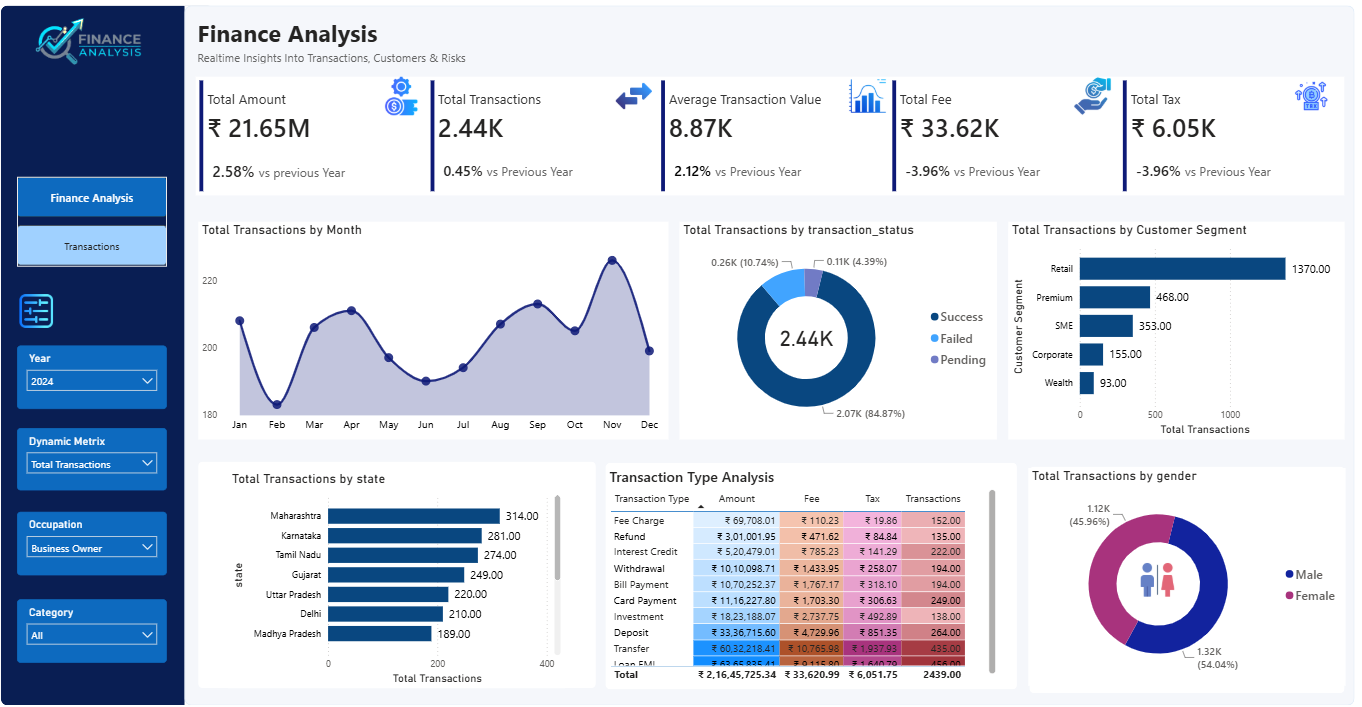

What the dashboard file says about the page in this screenshot:
{"tool":"powerbi","page":{"name":"Finance Analysis","canvas":[1800,950],"ordinal":0},"visuals":[{"type":"shape","box":[11.4,16.4,279.6,915.7],"z":0},{"type":"shape","box":[251.8,16.4,1530.5,915.7],"z":1000},{"type":"image","box":[11.4,16.4,228.9,93.2],"z":2000},{"type":"cardVisual","fields":{"Data":["finance_transactions.Dashboard Title"]},"box":[251.8,16.4,389.2,93.2],"z":3000},{"type":"cardVisual","fields":{"Data":["finance_transactions.Total Amount","finance_transactions.Total transactions","finance_transactions.Average Transaction Value","finance_transactions.Total Fee","finance_transactions.Total Tax"]},"box":[266.5,109.6,1502.7,155.3],"z":4000},{"type":"slicer","fields":{"Values":["Calendar Table.Year"]},"box":[32.7,461.1,196.2,83.4],"z":5000},{"type":"image","box":[510.2,109.6,50.7,50.7],"z":6000},{"type":"image","box":[814.3,109.6,50.7,50.7],"z":7000},{"type":"image","box":[1414.4,109.6,50.7,50.7],"z":8000},{"type":"image","box":[1120.1,109.6,50.7,50.7],"z":9000},{"type":"image","box":[1700.6,109.6,50.7,50.7],"z":10000},{"type":"slicer","fields":{"Values":["Dynamic Metrix.Dynamic Metrix"]},"box":[32.7,569,196.2,81.8],"z":11000},{"type":"shape","box":[1329.4,299.2,439.9,273.1],"z":12000},{"type":"areaChart","fields":{"Category":["Calendar Table.Month"],"Y":["finance_transactions.Total Transactions"]},"box":[269.8,299.2,614.8,284.5],"z":13000},{"type":"shape","box":[899.3,299.2,415.3,273.1],"z":14000},{"type":"donutChart","fields":{"Category":["finance_transactions.transaction_status"],"Y":["finance_transactions.Total Transactions"]},"box":[899.3,299.2,415.3,284.5],"z":15000},{"type":"barChart","fields":{"Category":["customers.customer_segment"],"Y":["finance_transactions.Total Transactions"]},"box":[1329.4,299.2,439.9,284.5],"z":16000},{"type":"shape","box":[269.8,613.2,520,296],"z":17000},{"type":"barChart","fields":{"Category":["customers.state"],"Y":["finance_transactions.Total Transactions"]},"box":[309,624.6,439.9,284.5],"z":18000},{"type":"shape","box":[802.9,614.8,538,296],"z":19000},{"type":"tableEx","title":"Transaction Type Analysis","fields":{"Values":["finance_transactions.transaction_type","finance_transactions.Total Amount","finance_transactions.Total Fee","finance_transactions.Total Tax","finance_transactions.Total Transactions"]},"box":[802.9,619.7,515.1,286.2],"z":20000},{"type":"shape","box":[1357.2,619.7,412.1,296],"z":21000},{"type":"donutChart","fields":{"Category":["customers.gender"],"Y":["finance_transactions.Total Transactions"]},"box":[1355.6,621.4,415.3,284.5],"z":22000},{"type":"image","box":[1499.5,742.4,50.7,50.7],"z":23000},{"type":"slicer","fields":{"Values":["customers.occupation"]},"box":[32.7,678.6,196.2,83.4],"z":24000},{"type":"slicer","fields":{"Values":["finance_transactions.merchant_category"]},"box":[32.7,793.1,196.2,83.4],"z":25000},{"type":"pageNavigator","box":[32.7,240.4,196.2,117.7],"z":26000},{"type":"image","box":[32.7,390.8,50.7,50.7],"z":26001}]}

Visuals, with their boxes in screenshot pixels (x1, y1, x2, y2), scaled from the page's 1800x950 canvas onto the 1362x707 screenshot:
shape: box(9, 12, 220, 694)
shape: box(191, 12, 1349, 694)
image: box(9, 12, 182, 82)
cardVisual - finance_transactions.Dashboard Title: box(191, 12, 485, 82)
cardVisual - finance_transactions.Total Amount x finance_transactions.Total transactions: box(202, 82, 1339, 197)
slicer - Calendar Table.Year: box(25, 343, 173, 405)
image: box(386, 82, 424, 119)
image: box(616, 82, 655, 119)
image: box(1070, 82, 1109, 119)
image: box(848, 82, 886, 119)
image: box(1287, 82, 1325, 119)
slicer - Dynamic Metrix.Dynamic Metrix: box(25, 423, 173, 484)
shape: box(1006, 223, 1339, 426)
areaChart - Calendar Table.Month x finance_transactions.Total Transactions: box(204, 223, 669, 434)
shape: box(680, 223, 995, 426)
donutChart - finance_transactions.transaction_status x finance_transactions.Total Transactions: box(680, 223, 995, 434)
barChart - customers.customer_segment x finance_transactions.Total Transactions: box(1006, 223, 1339, 434)
shape: box(204, 456, 598, 677)
barChart - customers.state x finance_transactions.Total Transactions: box(234, 465, 567, 677)
shape: box(608, 458, 1015, 678)
"Transaction Type Analysis" tableEx: box(608, 461, 997, 674)
shape: box(1027, 461, 1339, 681)
donutChart - customers.gender x finance_transactions.Total Transactions: box(1026, 462, 1340, 674)
image: box(1135, 553, 1173, 590)
slicer - customers.occupation: box(25, 505, 173, 567)
slicer - finance_transactions.merchant_category: box(25, 590, 173, 652)
pageNavigator: box(25, 179, 173, 267)
image: box(25, 291, 63, 329)
